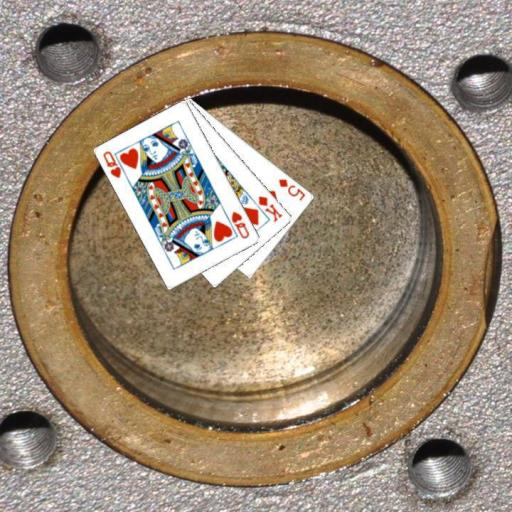card-corner: (100, 148, 130, 180), (256, 193, 284, 223), (276, 176, 307, 202), (228, 208, 251, 240)
